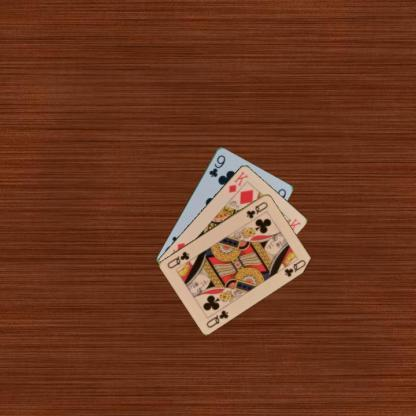9c: (206, 152, 226, 178)
Kd: (226, 168, 249, 194)
Qc: (204, 307, 230, 329), (244, 198, 270, 219)
